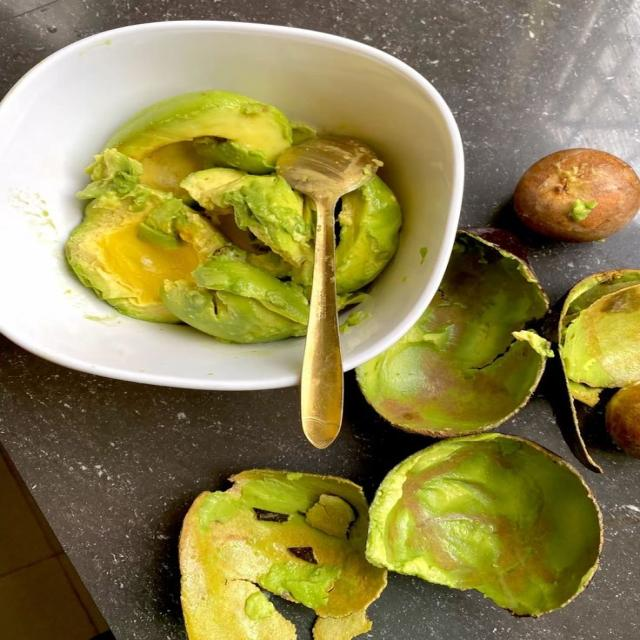avocado: (367, 434, 602, 616), (357, 230, 550, 437), (180, 470, 386, 639), (66, 150, 226, 322), (551, 269, 639, 472), (182, 169, 314, 284), (107, 91, 292, 172), (183, 169, 313, 284), (161, 280, 306, 343), (194, 250, 308, 324), (561, 284, 639, 388), (336, 177, 401, 292), (180, 168, 246, 210)
